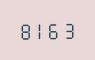eight: (18, 20, 31, 40)
one: (32, 20, 45, 40)
six: (46, 20, 59, 39)
three: (60, 19, 73, 39)
